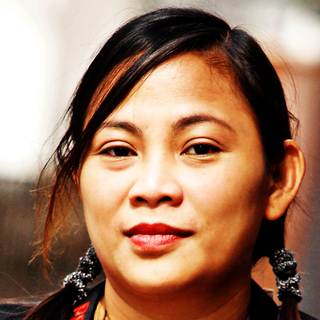eye: (172, 134, 232, 164), (90, 138, 142, 167)
